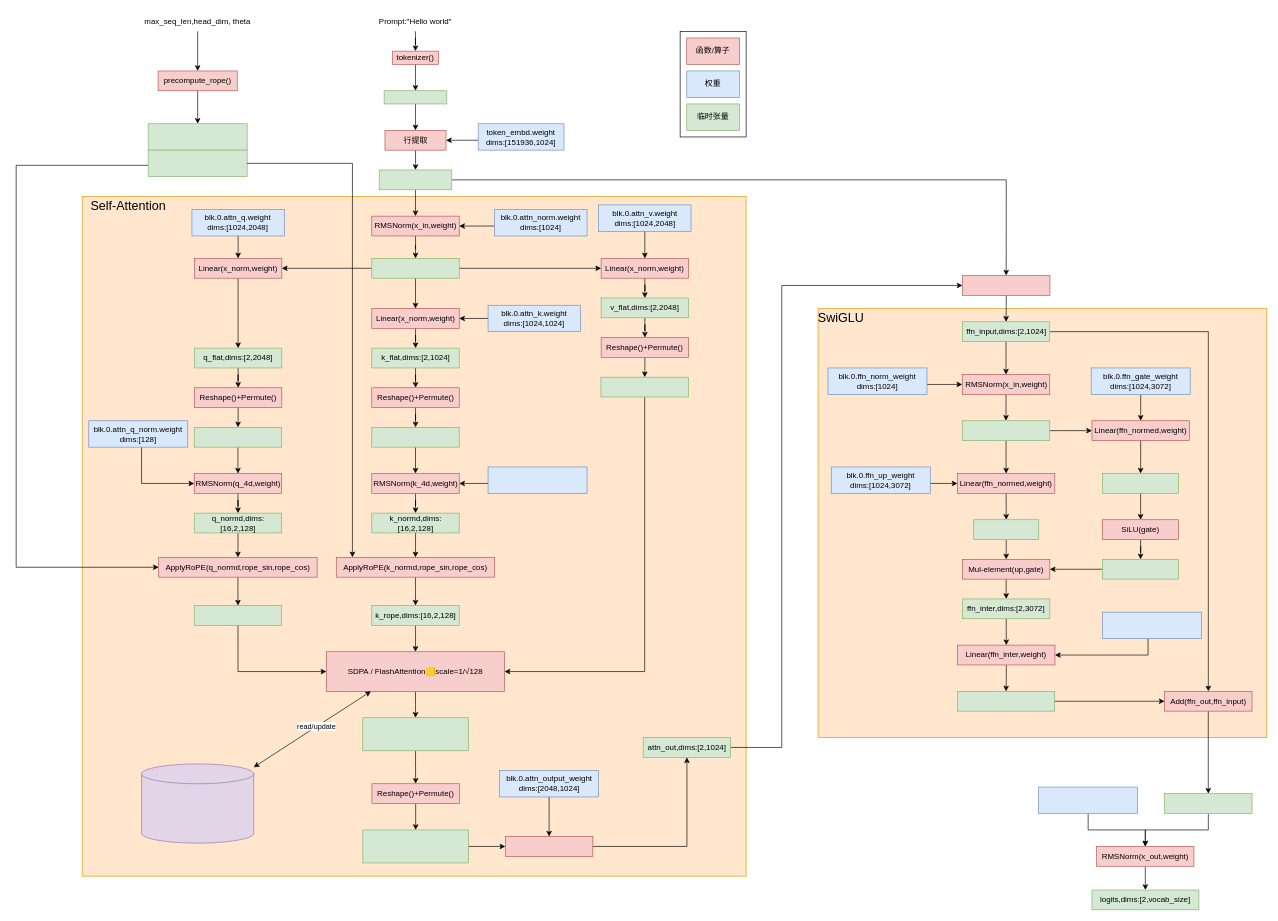
Some shapes in this 1278 by 921 pixel diagram are drawn without their labels. The box of each missing label's shape, as (x1, y1, x2, y2) in pixels:
Add(attn_out,x_in): (962, 275, 1050, 295)
arr[1234,5678]: (383, 90, 447, 104)
attn_4d,dims:[16,2,128]: (362, 717, 468, 751)
attn_flat,dims:[2,2048]: (362, 829, 468, 863)
blk.0.attn_k_norm.weight dims:[128]: (487, 466, 587, 493)
blk.0.ffn_down_weight dims:[3072,1024]: (1102, 611, 1202, 639)
ffn_normed.dims:[2,1024]: (962, 420, 1050, 441)
ffn_out,dims:[2,1024]: (957, 691, 1055, 711)
gate,dims:[2,3072]: (1102, 473, 1179, 493)
gate_act,dims:[2,3072]: (1102, 559, 1179, 579)
k_4d,dims:[16,2,128]: (371, 427, 459, 447)
KV-Cache dims:[2,16,max_seq,128]: (141, 763, 254, 843)
Linear(attn_flat,weight): (505, 836, 593, 856)
output_norm.weight dims:[1024]: (1038, 786, 1138, 813)
q_4d,dims:[16,2,128]: (194, 427, 282, 447)
q_rope,dims:[16,2,128]: (194, 605, 282, 625)
RoPE_cos, dims[max_seq_len,64]: (148, 123, 247, 150)
RoPE_sin, dims[max_seq_len,64]: (148, 149, 247, 177)
up,dims:[2,3072]: (973, 519, 1039, 540)
v_4d,dims:[16,2,128]: (600, 377, 688, 397)
x_in,dims:[2,1024]: (379, 169, 452, 190)
x_norm,dims:[2,1024]: (371, 258, 459, 278)
x_out,dims:[2,1024]: (1164, 793, 1252, 813)
